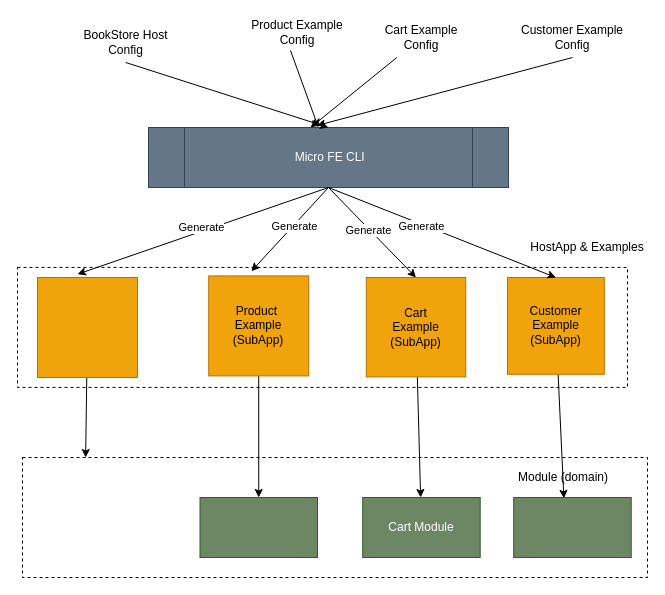
This 665x595 diagram has some shape labels left out. The box of each missing label's shape, as (x1, y1, x2, y2) in pixels:
Book Product Module: (199, 496, 318, 558)
BookStore App: (36, 276, 138, 378)
Customer Module: (513, 496, 631, 558)
